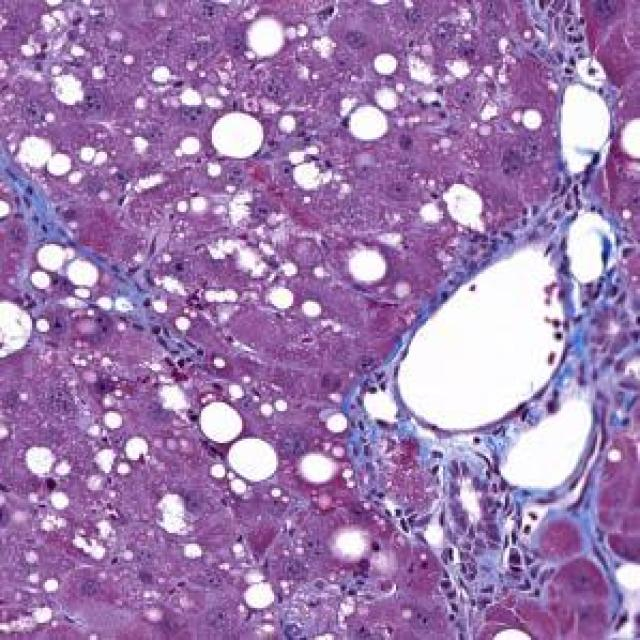fibrosis: (345, 407, 537, 582)
